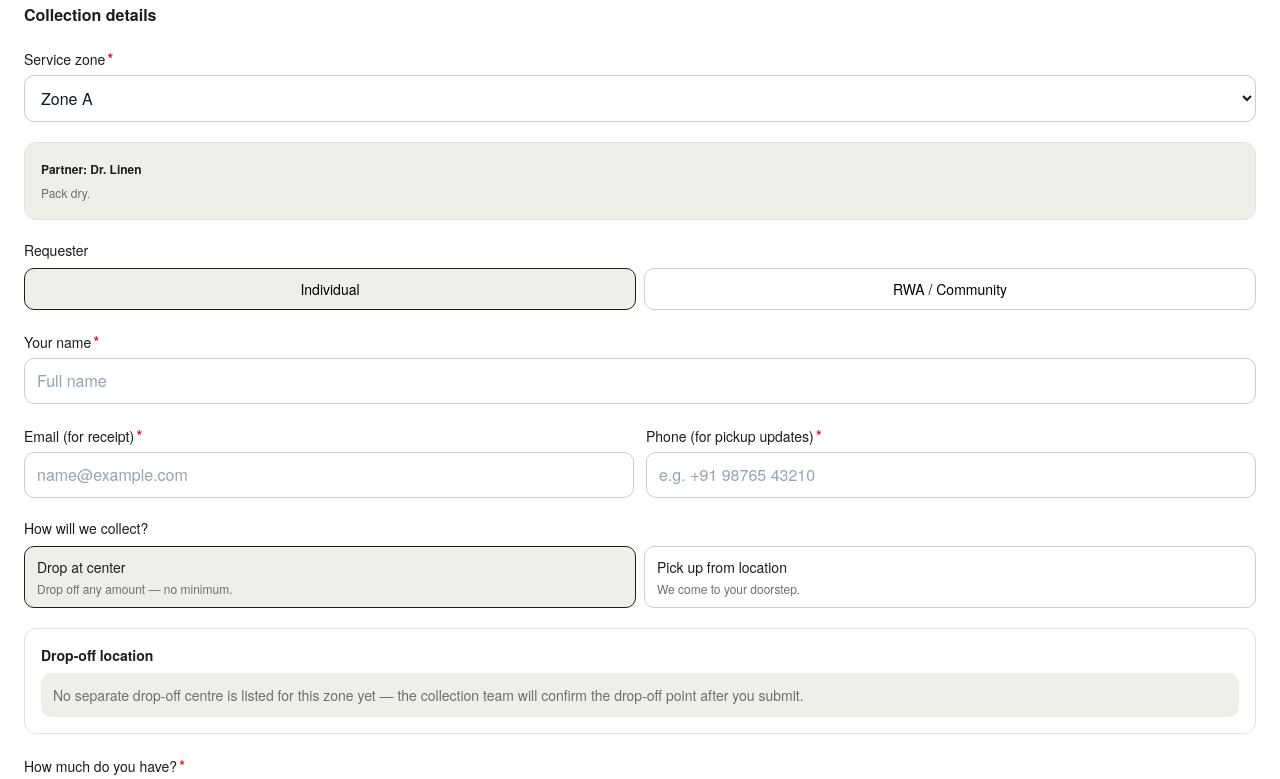
TextileCollectionFields › displays inline warning and aria-invalid when entered weight is below pickup minimum
Note: Switch to premises (pickup from location)
Click the text "Pick up from location": (722, 567) [657, 557, 787, 577]
(page scrolled)
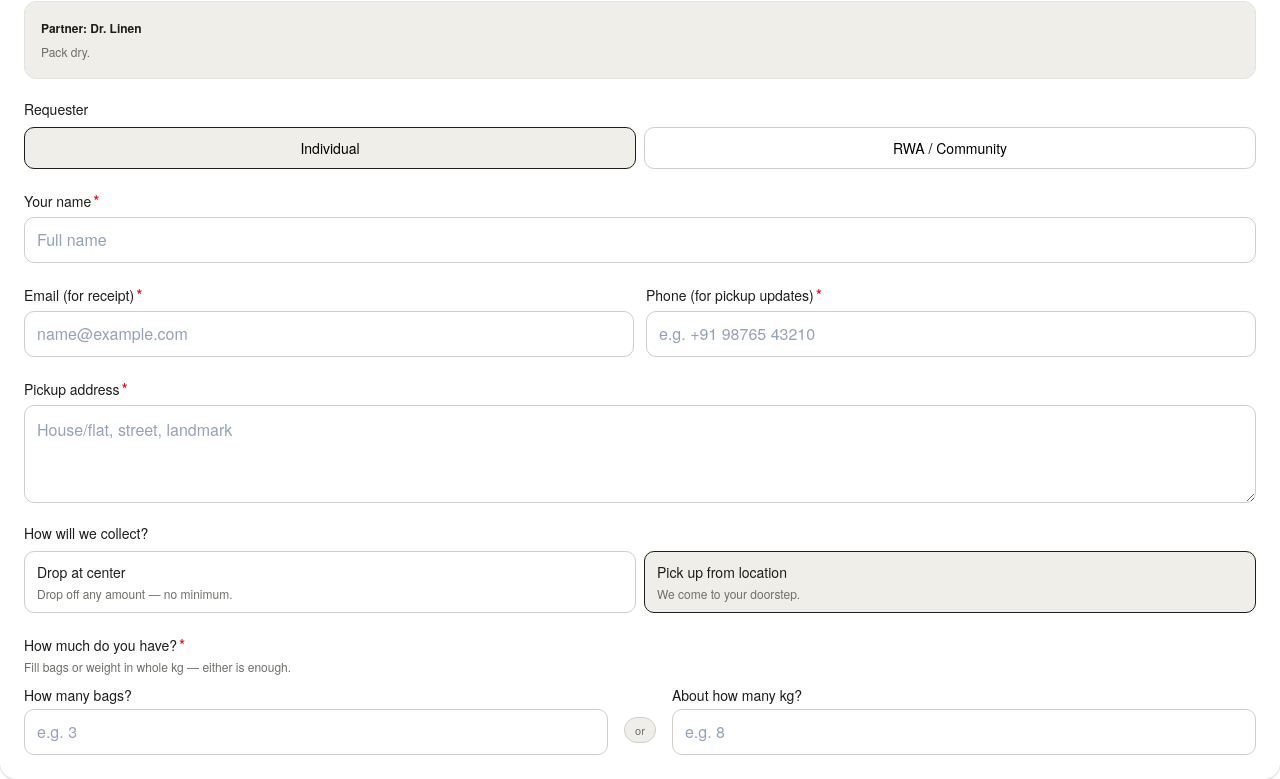
Note: Enter 3 kg (below minimum of 4 kg)
In the field labelled "About how many kg?": (964, 732) [672, 709, 1256, 755], type "3"
(page scrolled)
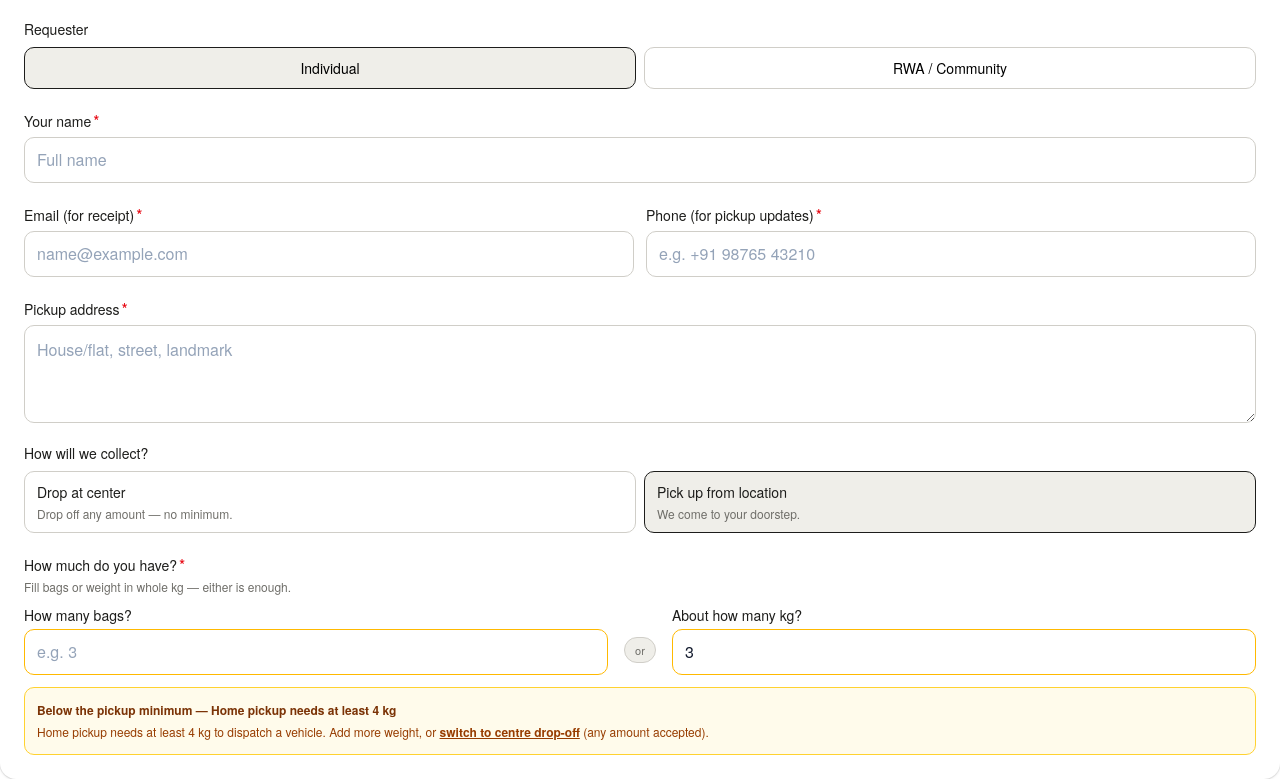
Check: the text "Below the pickup minimum — Home pickup needs at least 4 kg" is shown, box [37, 701, 396, 719]
Note: Click "switch to centre drop-off" button inside warning
Click the button "switch to centre drop-off": (510, 732) [440, 722, 580, 742]
(page scrolled)
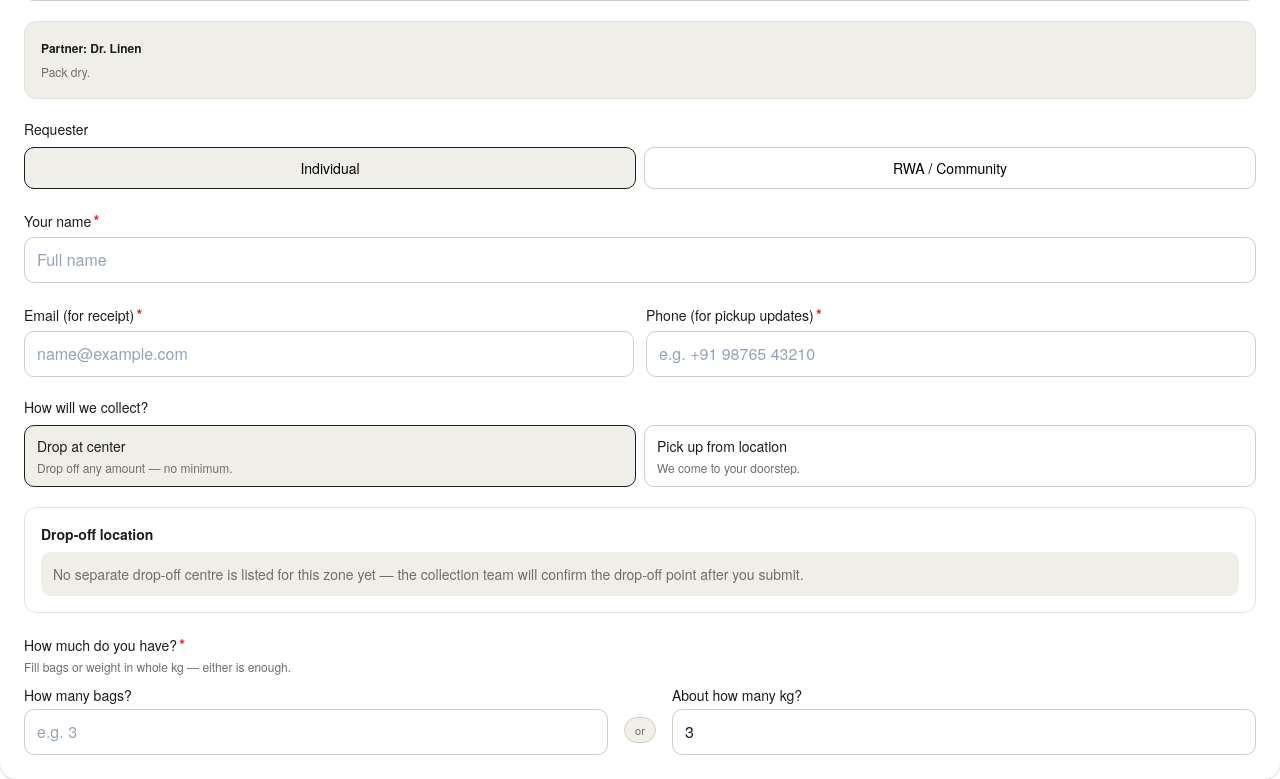
Check: the text "Below the pickup minimum" is gone
